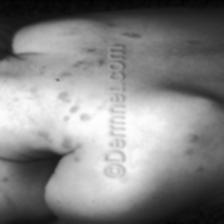Toxin: (56, 90, 93, 124)
